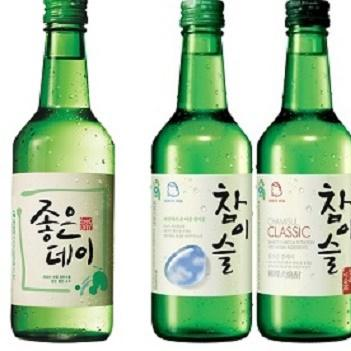soju: (149, 1, 350, 344), (9, 2, 118, 343)
